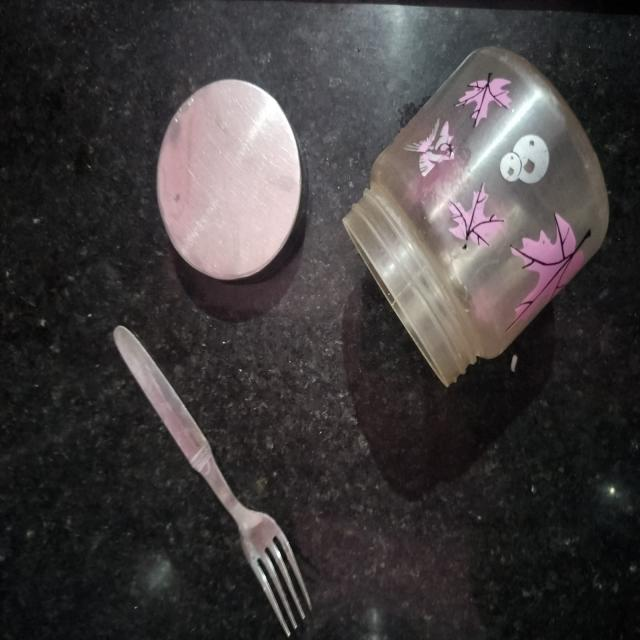metal: (108, 322, 314, 638), (155, 76, 303, 282)
plastic: (340, 43, 611, 389)
